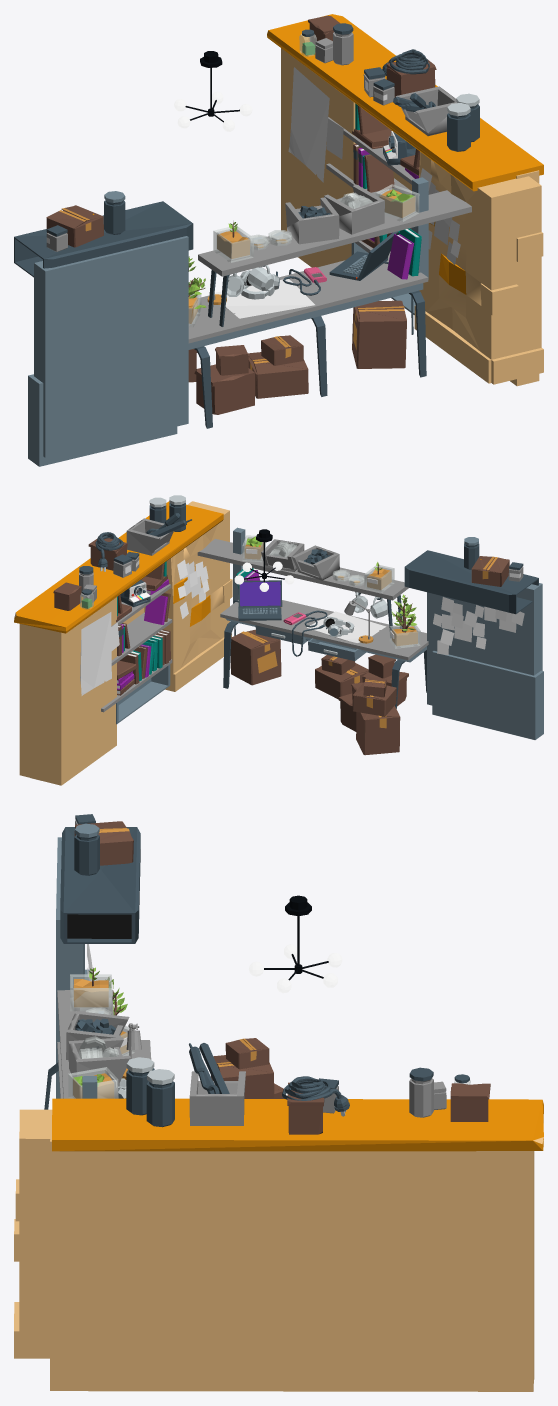
The model's file is room 1.glb.
3 renders of one model, top to bottom at view 1: azimuth 30°, elevation 25°; view 2: azimuth 150°, elevation 25°; view 3: azimuth 270°, elevation 25°, orthographic. The views are drawn at different scales.
Parts seen in each view (by area): view 1: wall 1, group259666405, group337026695, wall 3, wall 2, group2022069560, group92703077, group475958137, group1854588575, group80340542, group1807314114, group1443709309.001 (+25 smaller); view 2: wall 2, group1807314114, group259666405, wall 1, group337026695, group2022069560, wall 3, group475958137, group92703077, group1854588575, group1763104299, group475958137.001 (+37 smaller); view 3: group1763104299, group337026695, group259666405, group2022069560, group722914409, boxes, group1203974772, wall 1, CeilingLamp2, group80423347, group1018027720, group1443709309 (+9 smaller).
Boxes of the visible parts, left/top/right/bottom form: wall 1: left=34, top=236, right=188, bottom=457; group259666405: left=414, top=151, right=543, bottom=384; group337026695: left=267, top=14, right=543, bottom=191; wall 3: left=188, top=251, right=428, bottom=349; wall 2: left=281, top=48, right=355, bottom=267; group2022069560: left=14, top=201, right=193, bottom=277; group92703077: left=198, top=190, right=471, bottom=276; group475958137: left=352, top=300, right=406, bottom=368; group1854588575: left=288, top=67, right=329, bottom=182; group80340542: left=248, top=335, right=308, bottom=398; group1807314114: left=28, top=374, right=177, bottom=466; group1443709309.001: left=194, top=364, right=254, bottom=414; wall 2: left=30, top=597, right=116, bottom=785; group1807314114: left=432, top=651, right=543, bottom=739; group259666405: left=144, top=501, right=232, bottom=691; wall 1: left=427, top=583, right=542, bottom=705; group337026695: left=14, top=501, right=223, bottom=633; group2022069560: left=404, top=550, right=538, bottom=614; wall 3: left=220, top=600, right=428, bottom=662; group475958137: left=230, top=629, right=281, bottom=685; group92703077: left=197, top=538, right=408, bottom=600; group1854588575: left=80, top=612, right=111, bottom=695; group1763104299: left=19, top=607, right=144, bottom=777; group475958137.001: left=356, top=705, right=400, bottom=755; group1763104299: left=50, top=1128, right=533, bottom=1391; group337026695: left=52, top=1098, right=543, bottom=1151; group259666405: left=14, top=1109, right=52, bottom=1358; group2022069560: left=60, top=827, right=140, bottom=943; group722914409: left=189, top=1043, right=245, bottom=1125; boxes: left=211, top=1038, right=274, bottom=1098; group1203974772: left=68, top=1036, right=130, bottom=1086; wall 1: left=56, top=837, right=84, bottom=1098; CeilingLamp2: left=249, top=895, right=342, bottom=993; group80423347: left=70, top=967, right=112, bottom=1011; group1018027720: left=146, top=1069, right=174, bottom=1127; group1443709309: left=450, top=1083, right=490, bottom=1121.
Bounding box in the file's own units: 2.03 × 1.18 × 1.57.
